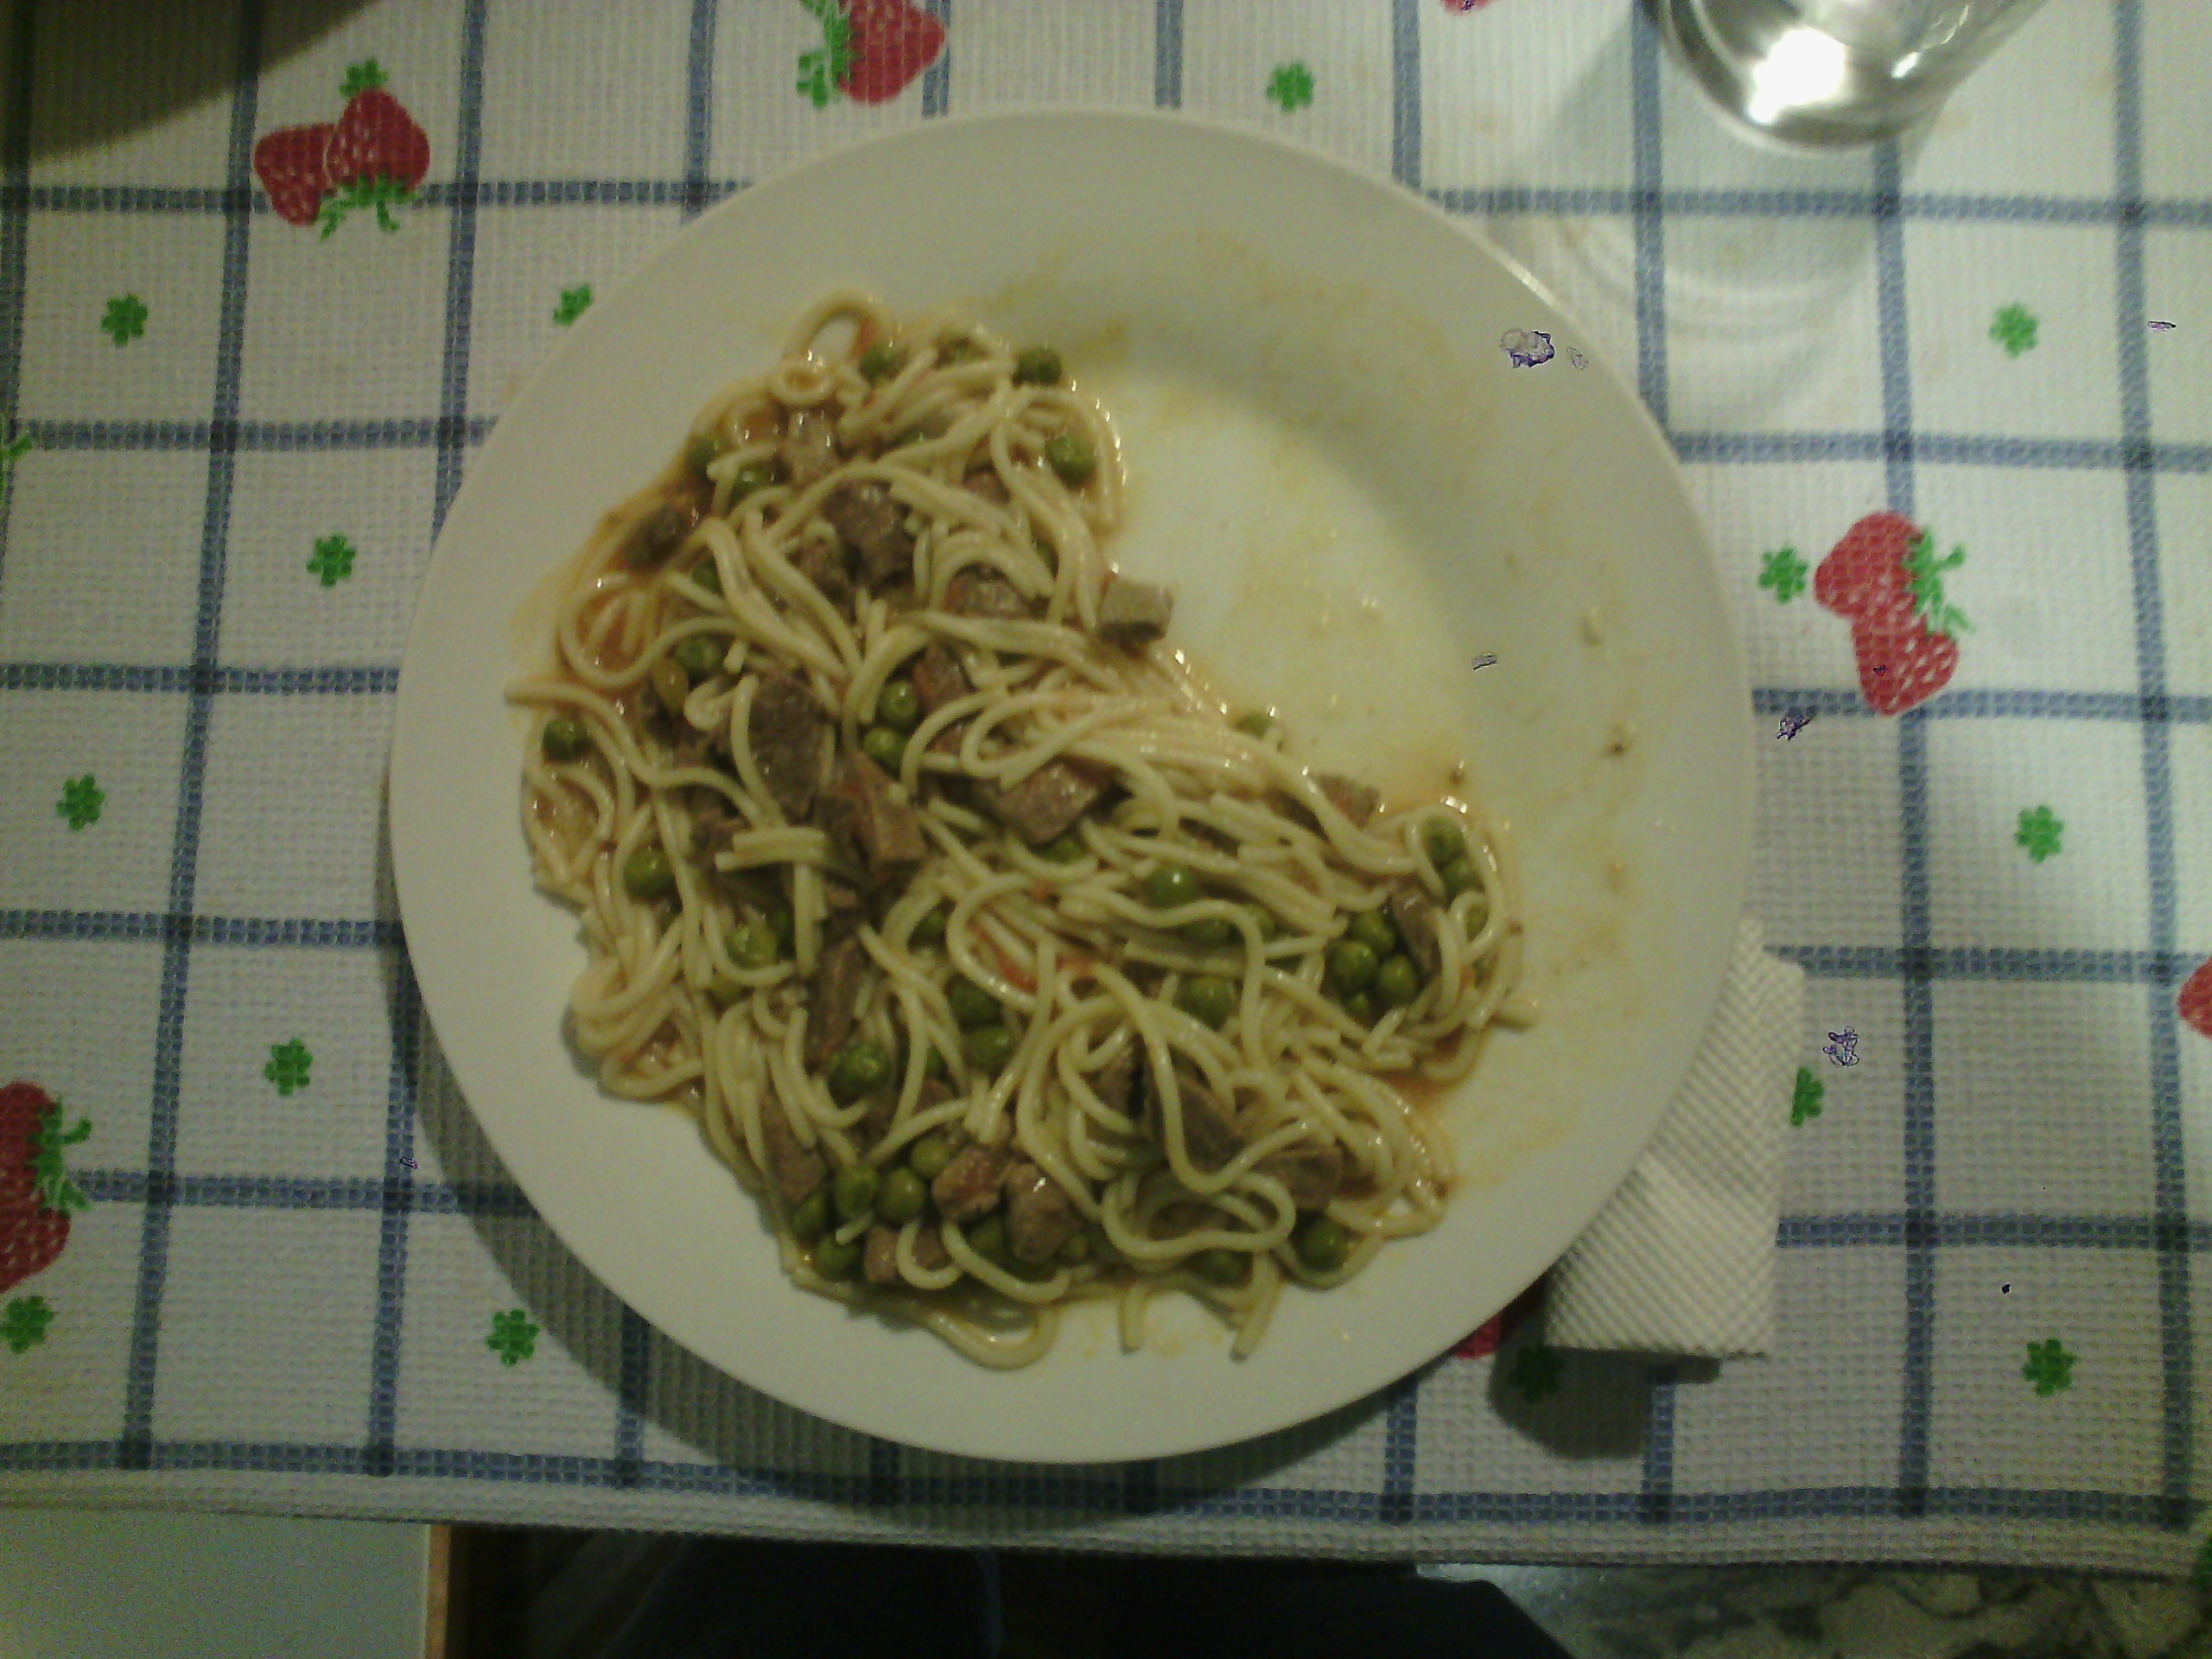61-80: (395, 106, 1752, 1473)
